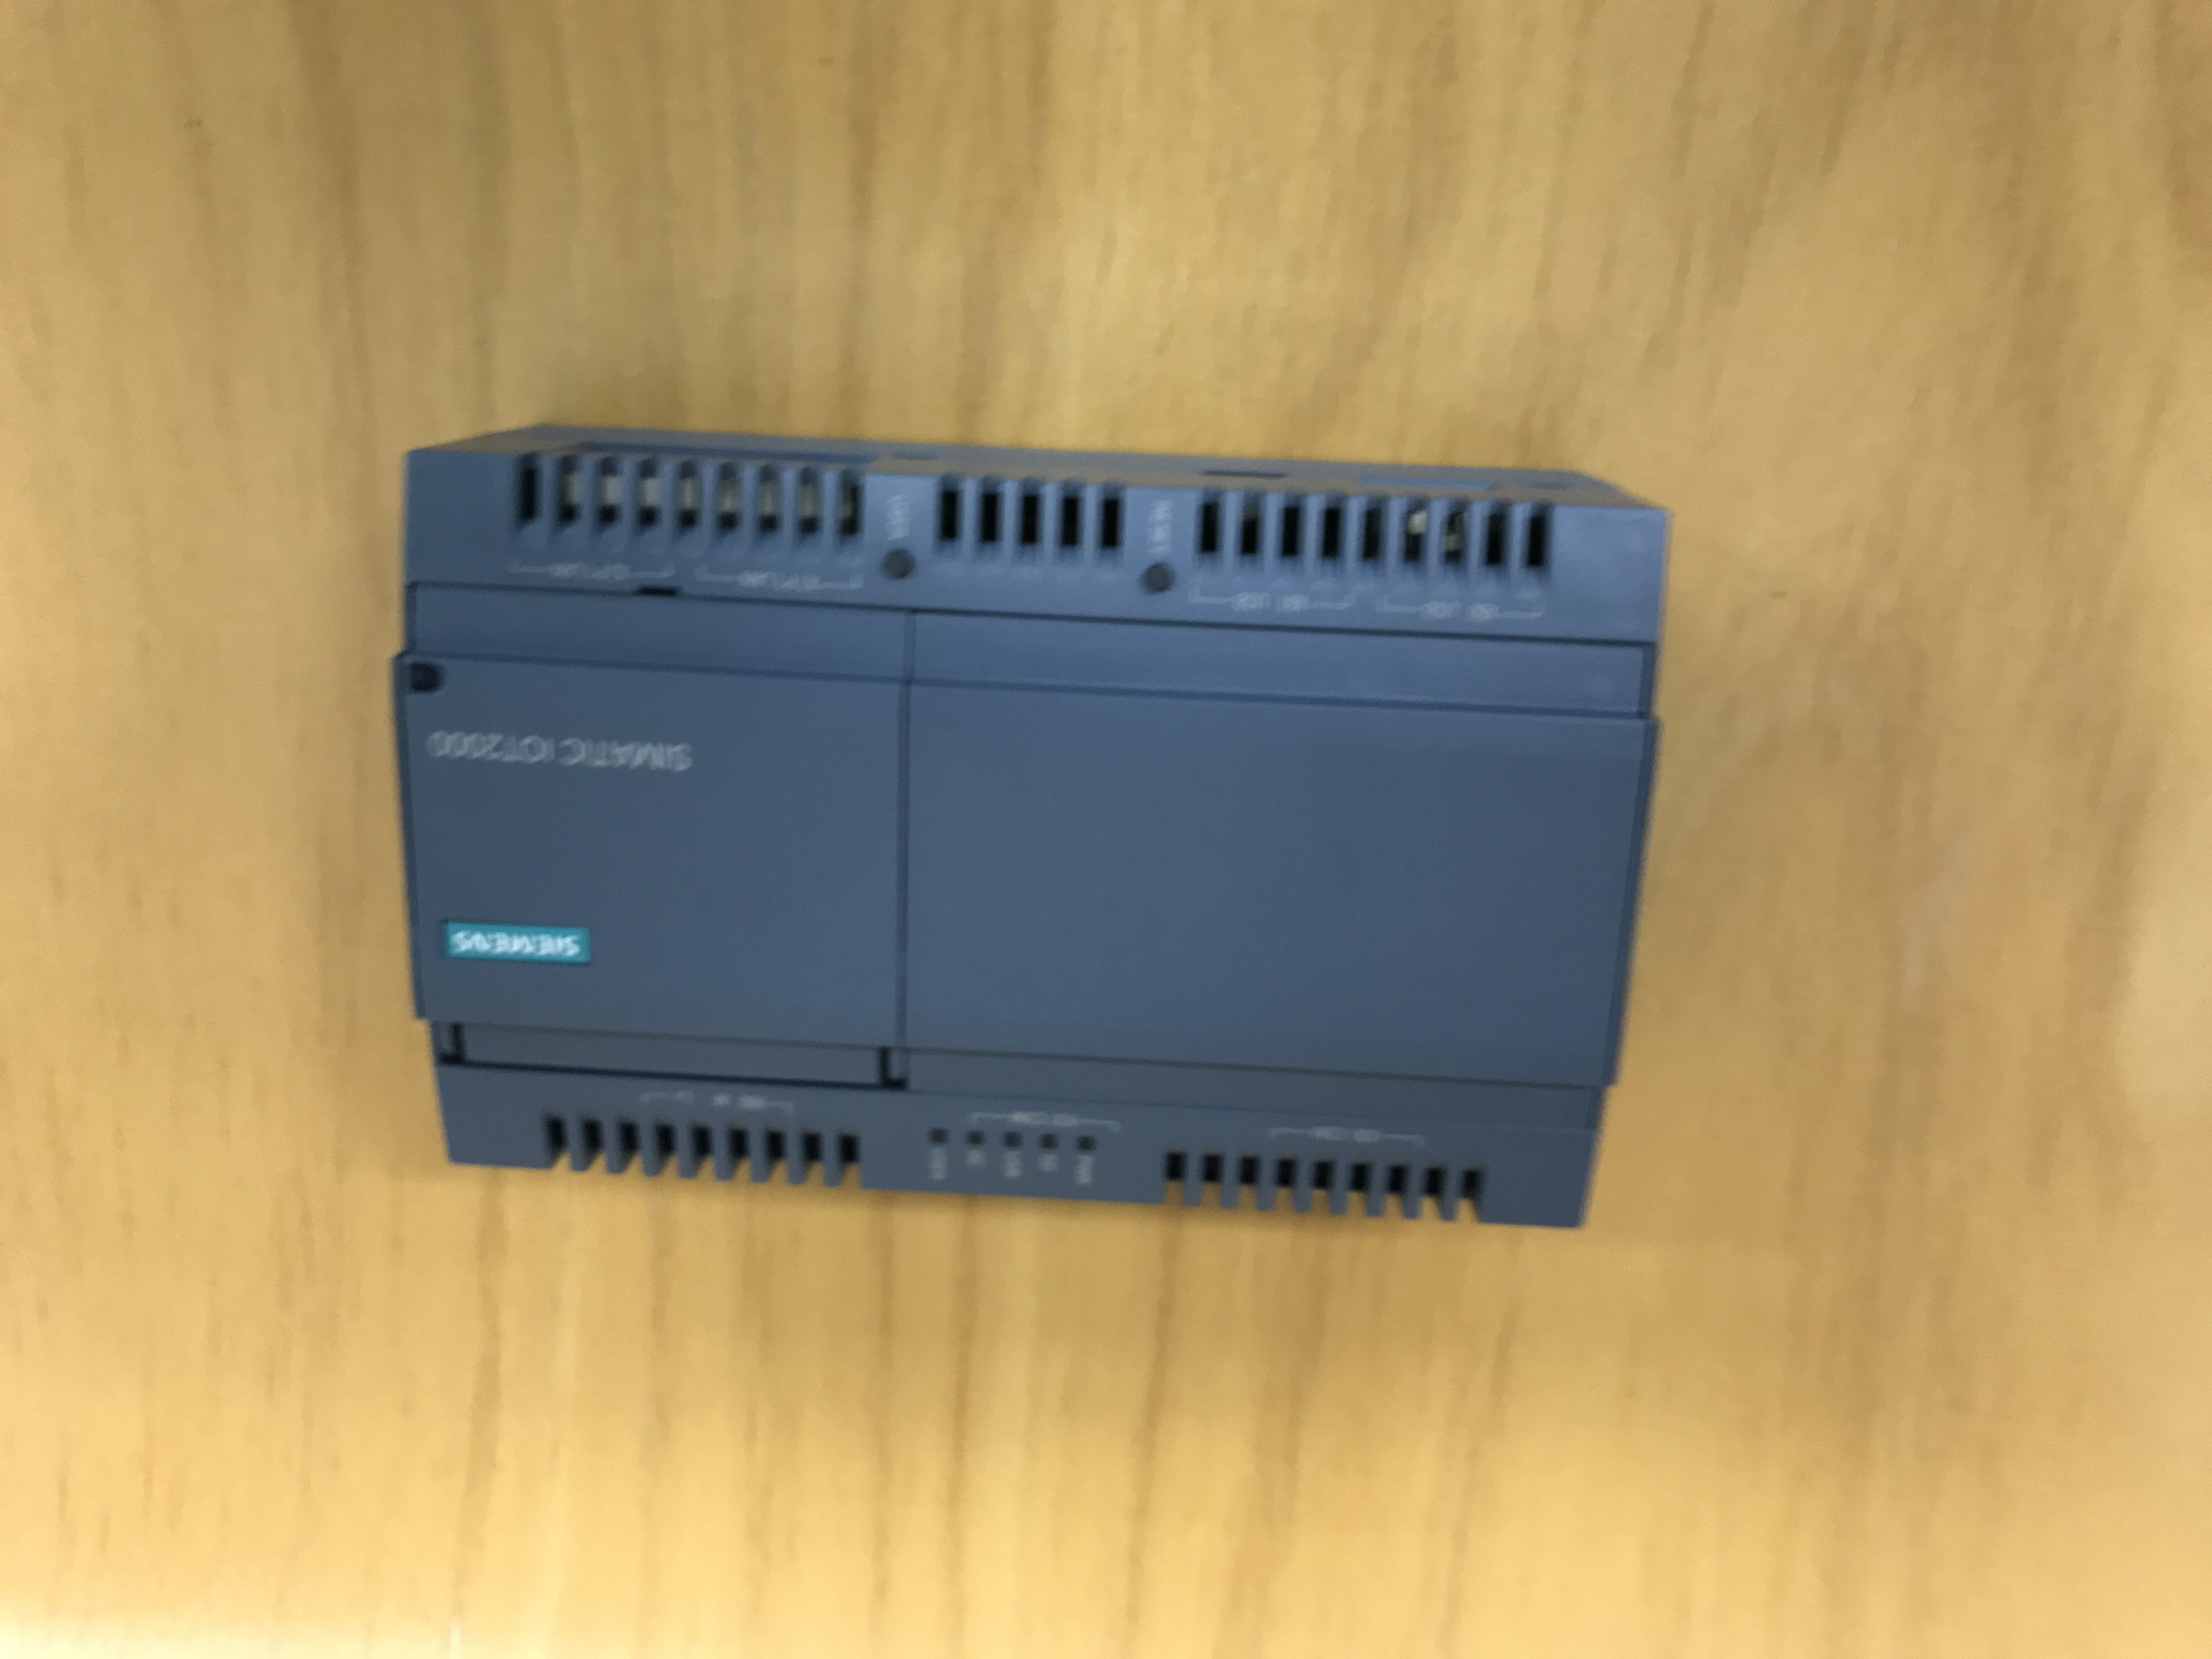device: (390, 422, 1670, 1232)
